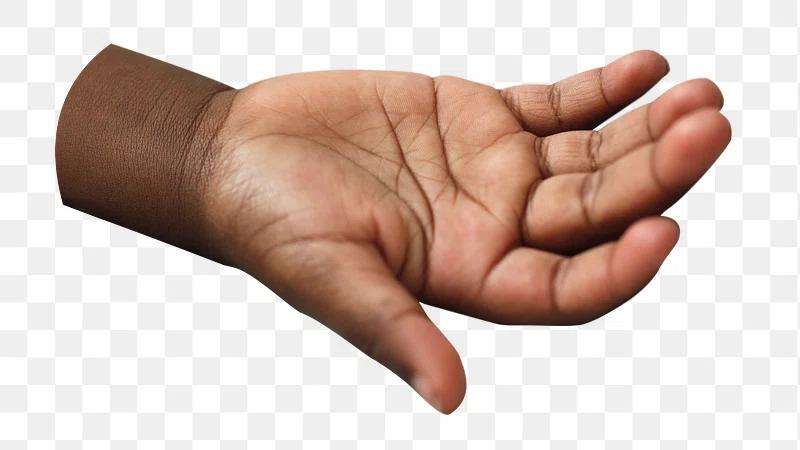paper: (229, 47, 775, 424)
